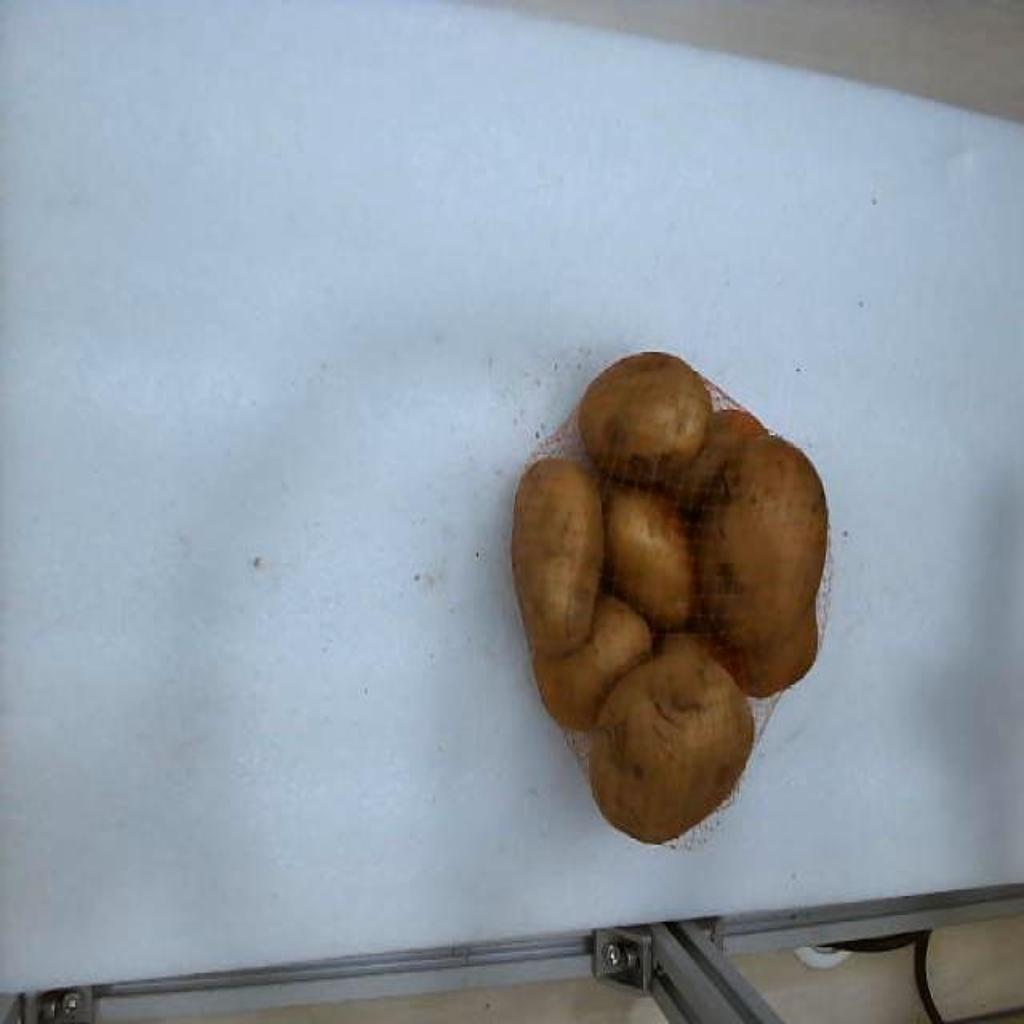potato: (694, 435, 828, 695), (590, 635, 754, 841), (512, 459, 604, 655), (580, 352, 710, 481), (534, 595, 652, 729), (604, 483, 694, 631), (666, 411, 767, 508)
